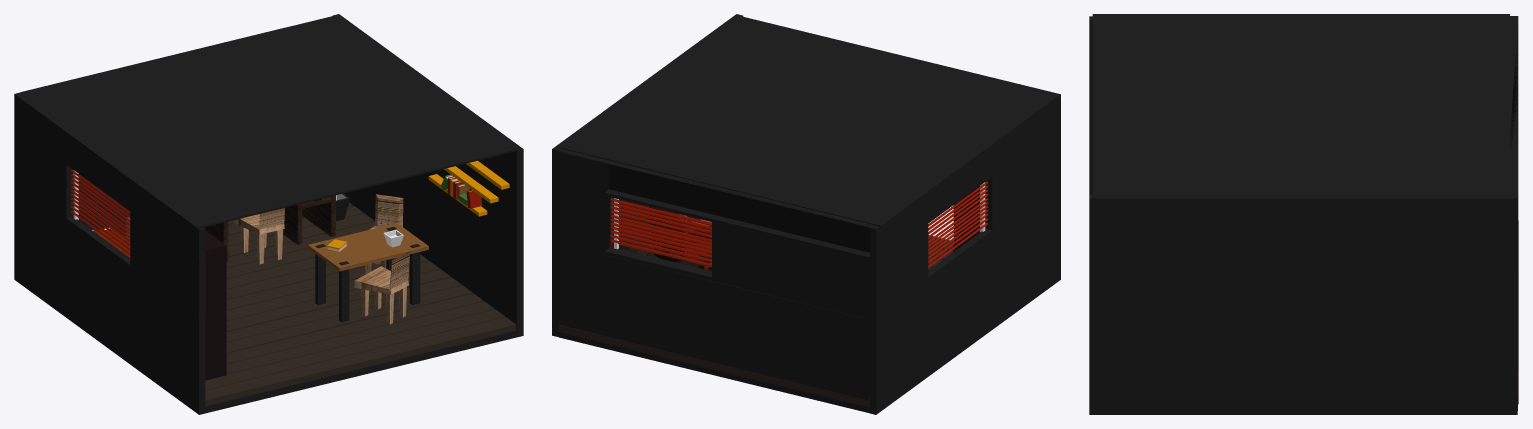
3 renders of one model, left to right at view 1: azimuth 30°, elevation 25°; view 2: azimuth 150°, elevation 25°; view 3: azimuth 270°, elevation 25°, orthographic. The views are drawn at different scales.
Visible parts, largest first — view 1: Cube.114, Plane, Cube, Cube.001, Cube.102, Cube.002, Cube.095, Cube.003, Cube.004, Cube.096, Cube.005, Cube.006 (+16 smaller); view 2: Plane, Cube.114, Cube.017, Cube.102; view 3: Plane, Cube.114.
Part boxes in pixels (x1=…): Cube.114: x1=16, y1=16, x2=521, y2=229; Plane: x1=14, y1=14, x2=523, y2=414; Cube: x1=205, y1=317, x2=516, y2=406; Cube.001: x1=205, y1=309, x2=505, y2=390; Cube.102: x1=205, y1=230, x2=226, y2=380; Cube.002: x1=226, y1=301, x2=494, y2=374; Cube.095: x1=307, y1=223, x2=428, y2=271; Cube.003: x1=226, y1=293, x2=483, y2=363; Cube.004: x1=226, y1=285, x2=472, y2=353; Cube.096: x1=354, y1=250, x2=410, y2=324; Cube.005: x1=226, y1=277, x2=461, y2=342; Cube.006: x1=226, y1=269, x2=450, y2=331; Plane: x1=552, y1=14, x2=1060, y2=414; Cube.114: x1=556, y1=15, x2=1060, y2=227; Cube.017: x1=558, y1=325, x2=869, y2=407; Cube.102: x1=953, y1=186, x2=979, y2=251; Plane: x1=1089, y1=16, x2=1518, y2=414; Cube.114: x1=1092, y1=14, x2=1509, y2=198.
Bounding box in the file's own units: 931 × 511 × 916.
22 materials, 5 textured.
